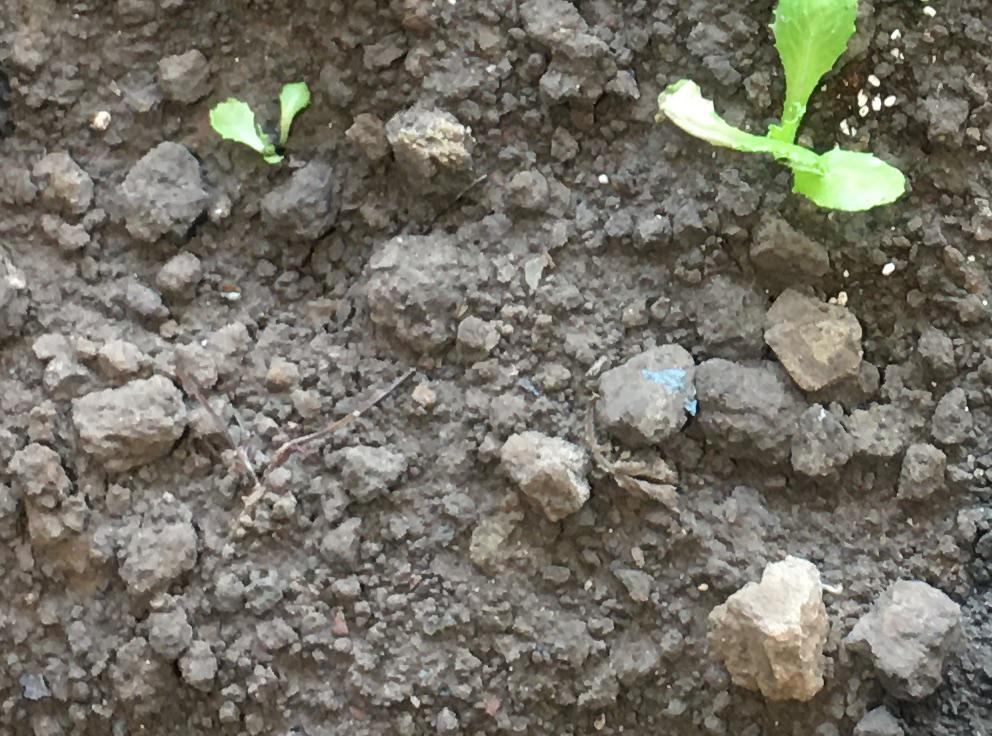block: (708, 550, 824, 700), (840, 578, 957, 703), (64, 372, 192, 463), (369, 237, 471, 349), (589, 344, 695, 449), (762, 284, 859, 395), (110, 140, 213, 240), (500, 422, 599, 519), (388, 103, 468, 184), (790, 405, 853, 480)
